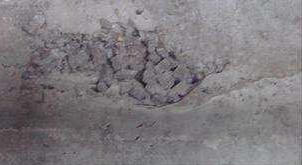Spalling: (18, 17, 206, 108)
